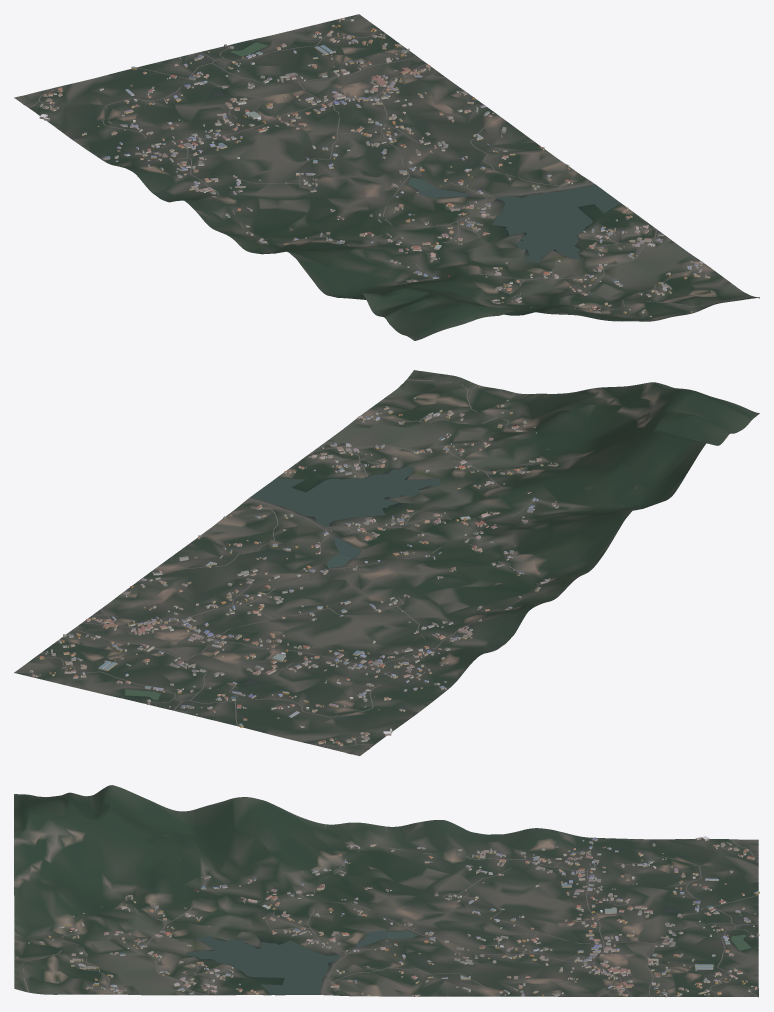
3 views of the same model, one above another, from view 1: azimuth 30°, elevation 25°; view 2: azimuth 150°, elevation 25°; view 3: azimuth 270°, elevation 25° (orthographic). The views are drawn at different scales.
Visible parts, largest first — view 1: ground, buildings, water, roads; view 2: ground, buildings, water, roads; view 3: ground, buildings, water, roads.
Boxes of the visible parts, left/top/right/bottom form: ground: left=14, top=14, right=759, bottom=340; buildings: left=39, top=18, right=712, bottom=317; water: left=213, top=42, right=621, bottom=262; roads: left=28, top=14, right=751, bottom=309; ground: left=14, top=370, right=759, bottom=755; buildings: left=29, top=386, right=559, bottom=746; water: left=124, top=466, right=440, bottom=699; roads: left=14, top=379, right=537, bottom=747; ground: left=14, top=785, right=758, bottom=997; buildings: left=16, top=836, right=759, bottom=997; water: left=186, top=907, right=750, bottom=994; roads: left=22, top=839, right=758, bottom=996.
Size of the model in its own units: 1411 by 249 by 2809.
